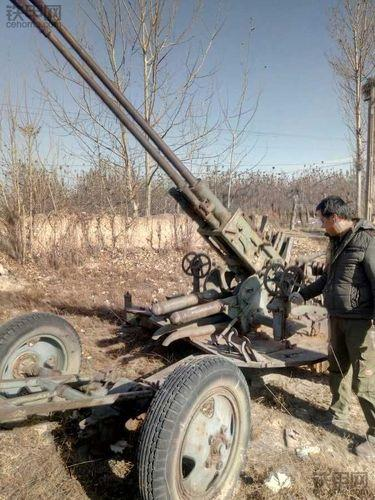MIL_SPG: (0, 0, 327, 500)
